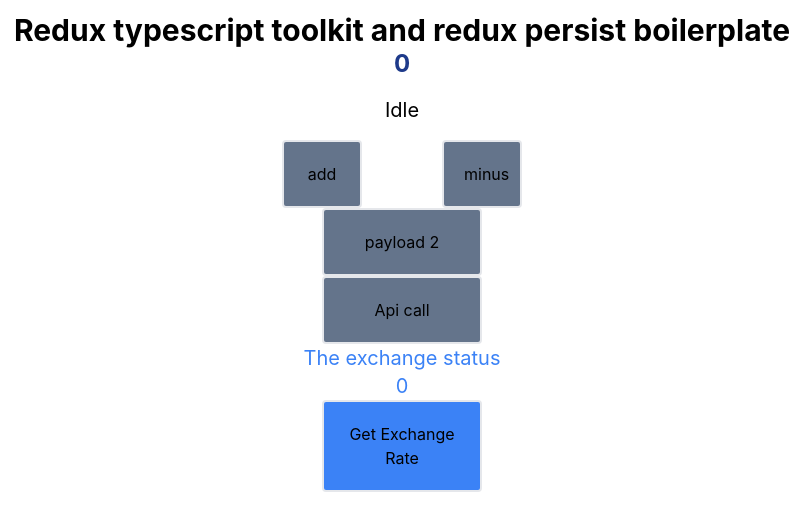
it: Adds one to the counter
Click the button "add". click: {"x": 322, "y": 174}
box: [282,140,362,208]
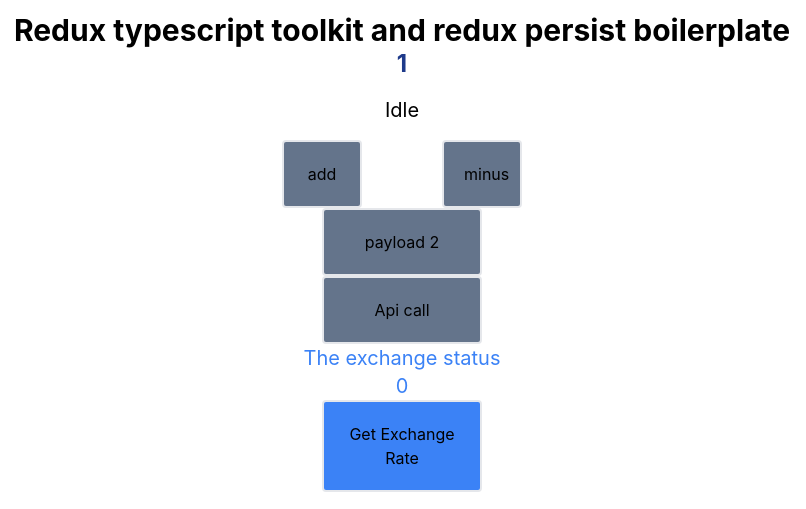
Now the text with test id "displayCount" reads "1", box [397,49,407,78]
